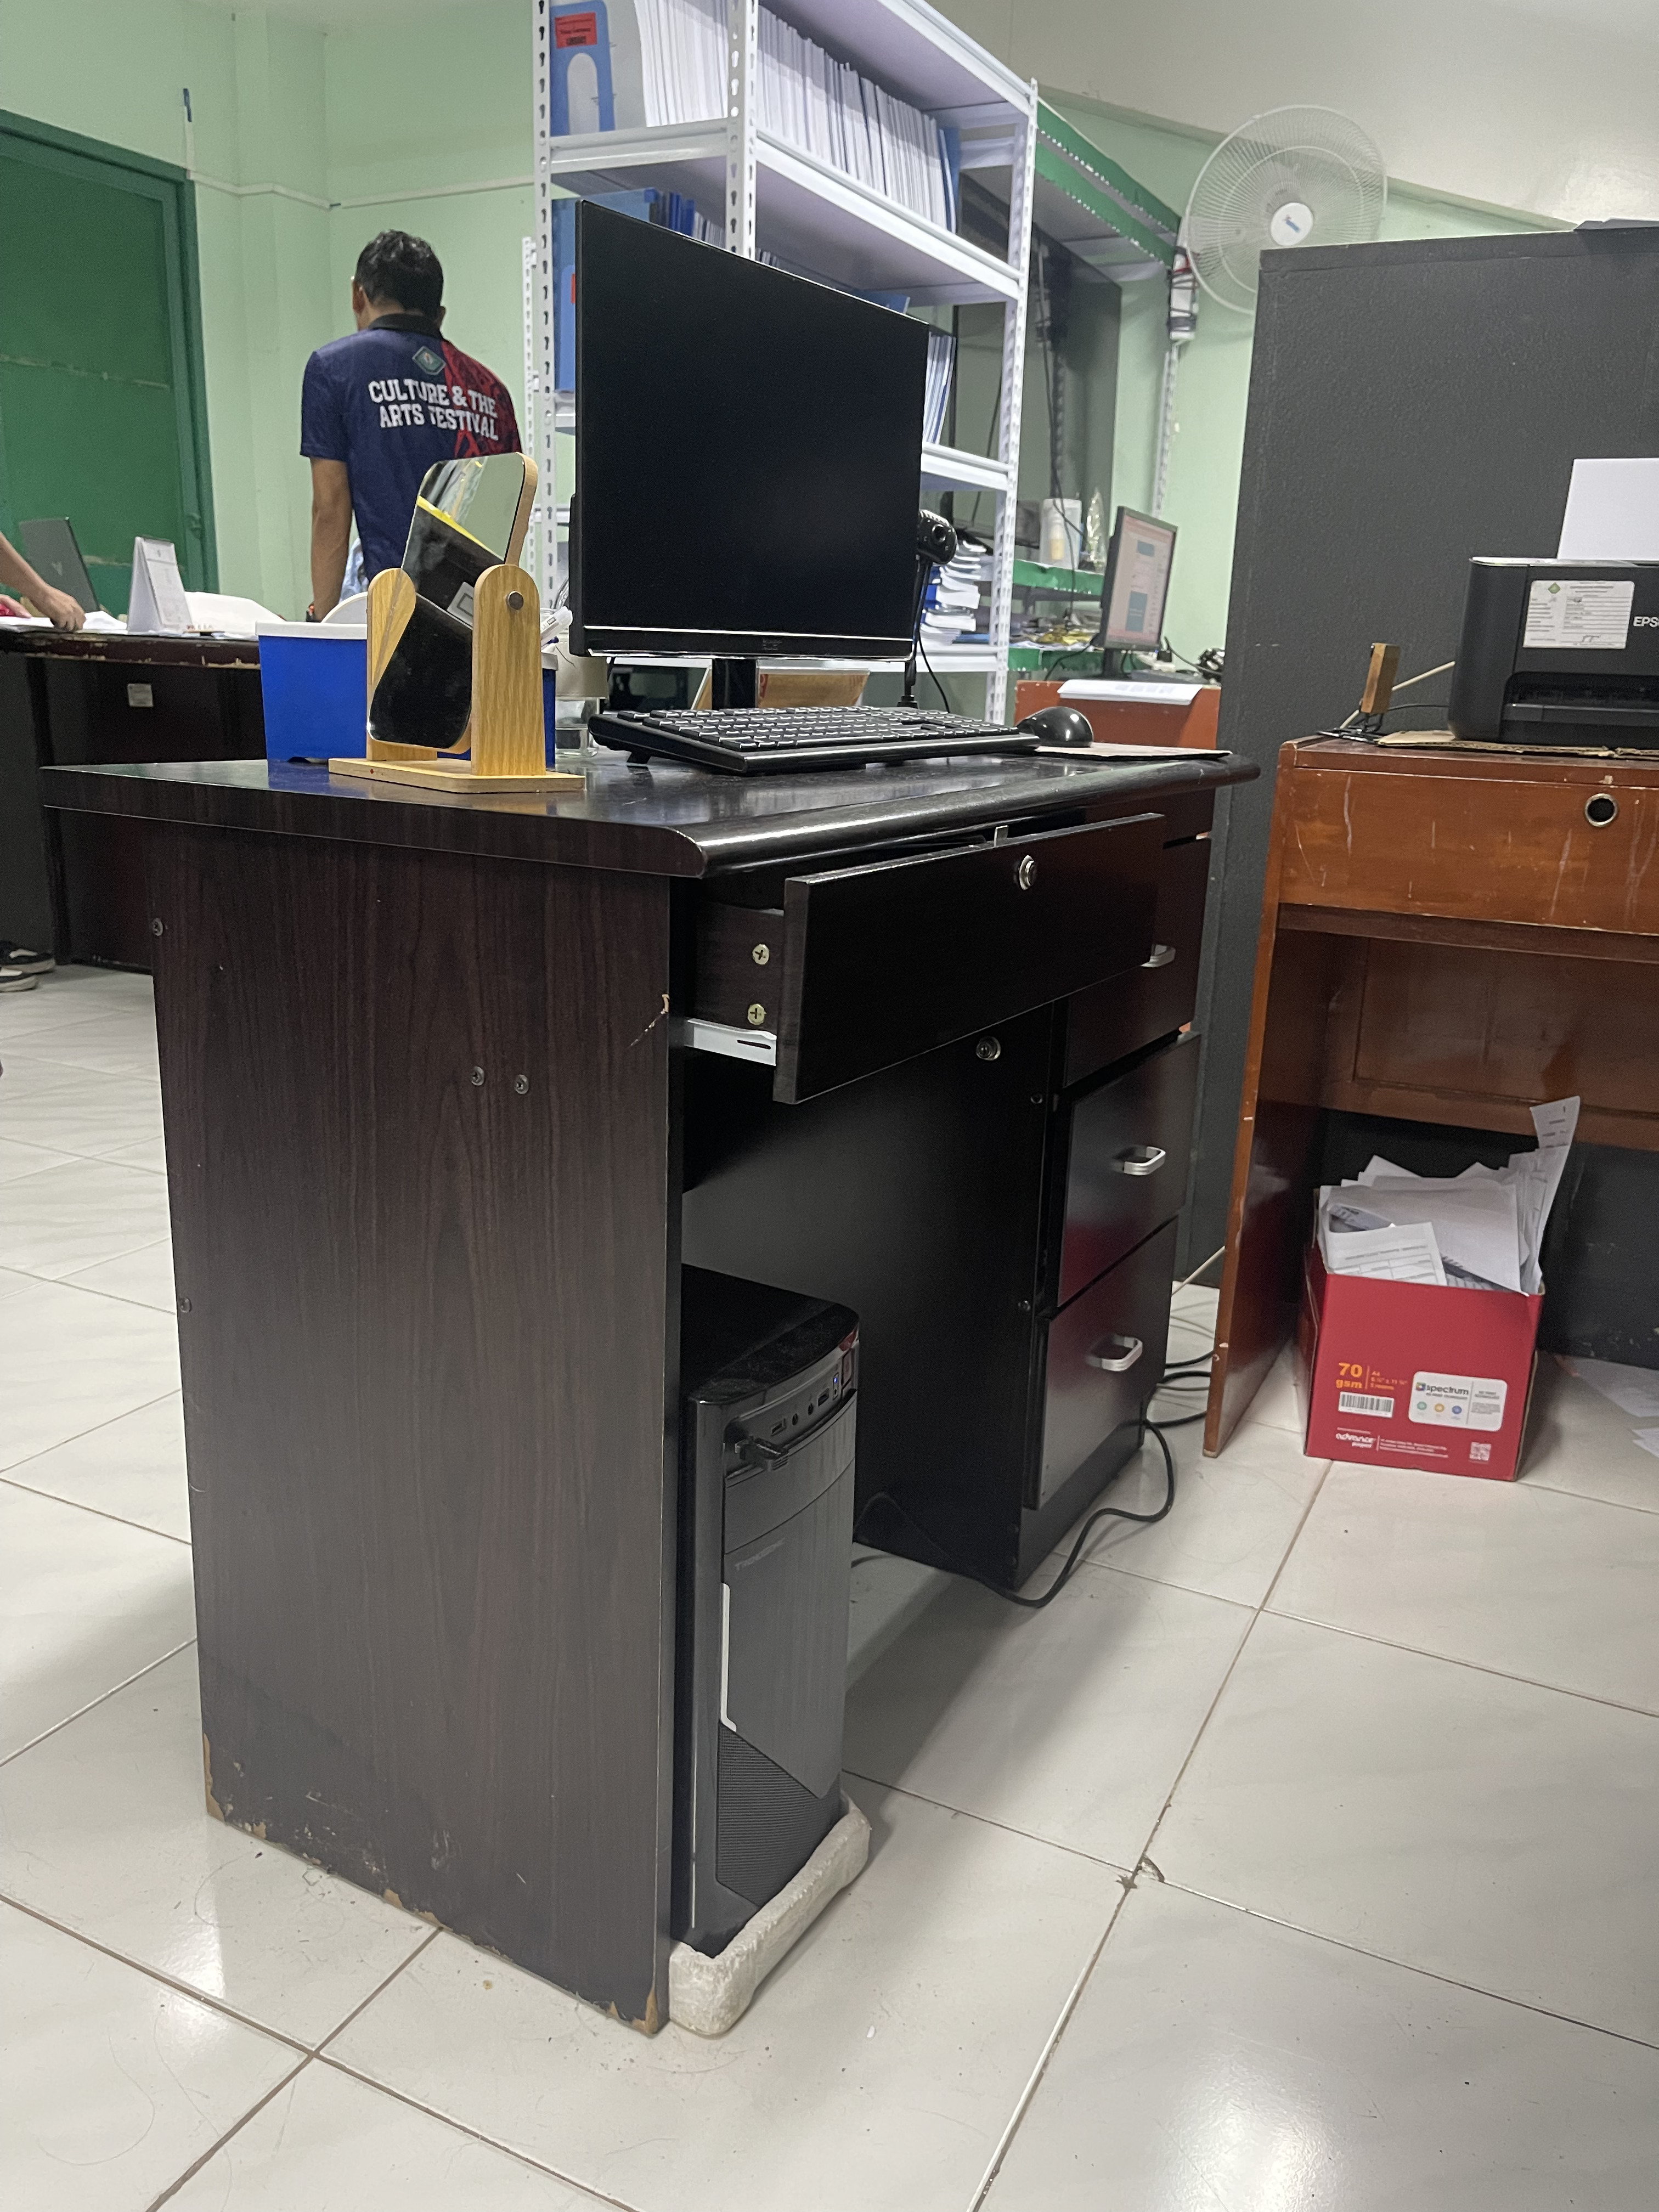table1: (31, 698, 1267, 2043)
